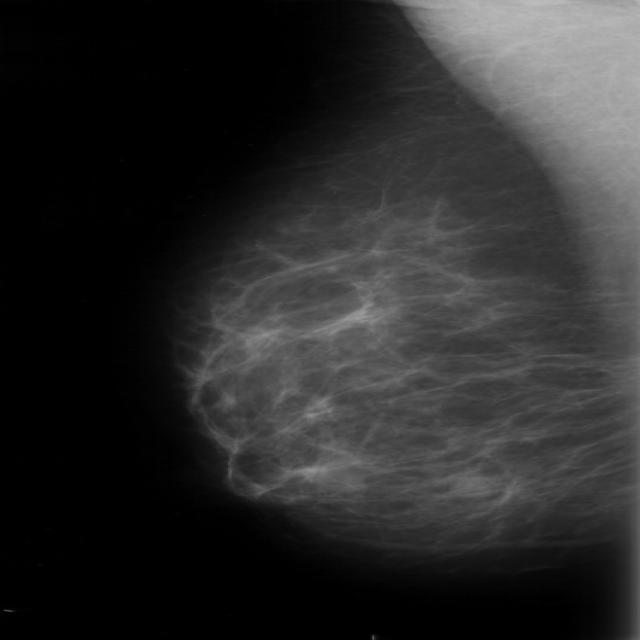tumour: (444, 474, 494, 497)
